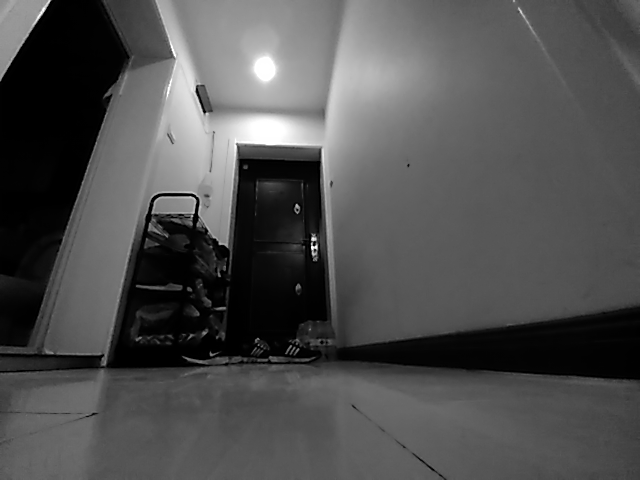shoe: (180, 340, 230, 369), (268, 338, 320, 363), (243, 337, 269, 362)
